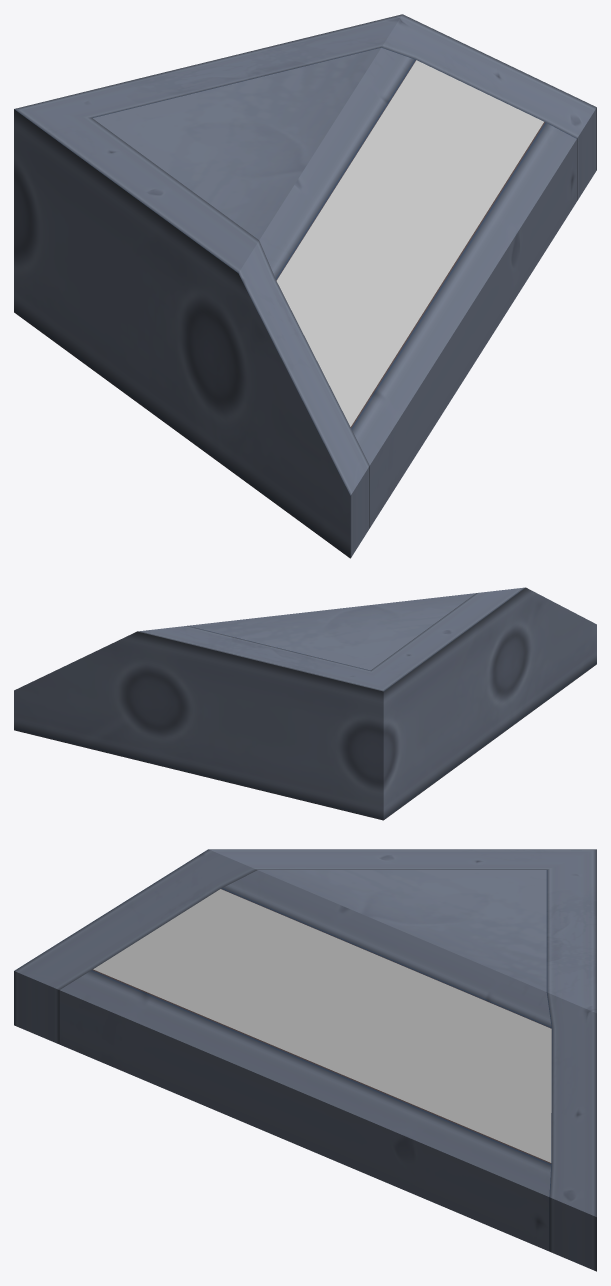
File: obj_spaceship_frame06.fbx
3 views of the same model, one above another, from view 1: azimuth 30°, elevation 25°; view 2: azimuth 150°, elevation 25°; view 3: azimuth 270°, elevation 25° (orthographic). The views are drawn at different scales.
Parts seen in each view (by area): view 1: polySurface255; view 2: polySurface255; view 3: polySurface255.
Part boxes in pixels (x1,y1,x2,y2): polySurface255: [14, 14, 596, 558]; polySurface255: [14, 587, 596, 820]; polySurface255: [14, 849, 596, 1271].
Size of the model in its own units: 3 by 1 by 3.
